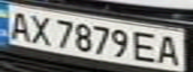7: (51, 17, 75, 50), (90, 24, 112, 56)
8: (72, 20, 93, 53)
9: (109, 26, 133, 60)
A: (3, 8, 33, 42), (154, 33, 184, 66)
E: (133, 29, 163, 63)
X: (24, 11, 54, 47)
